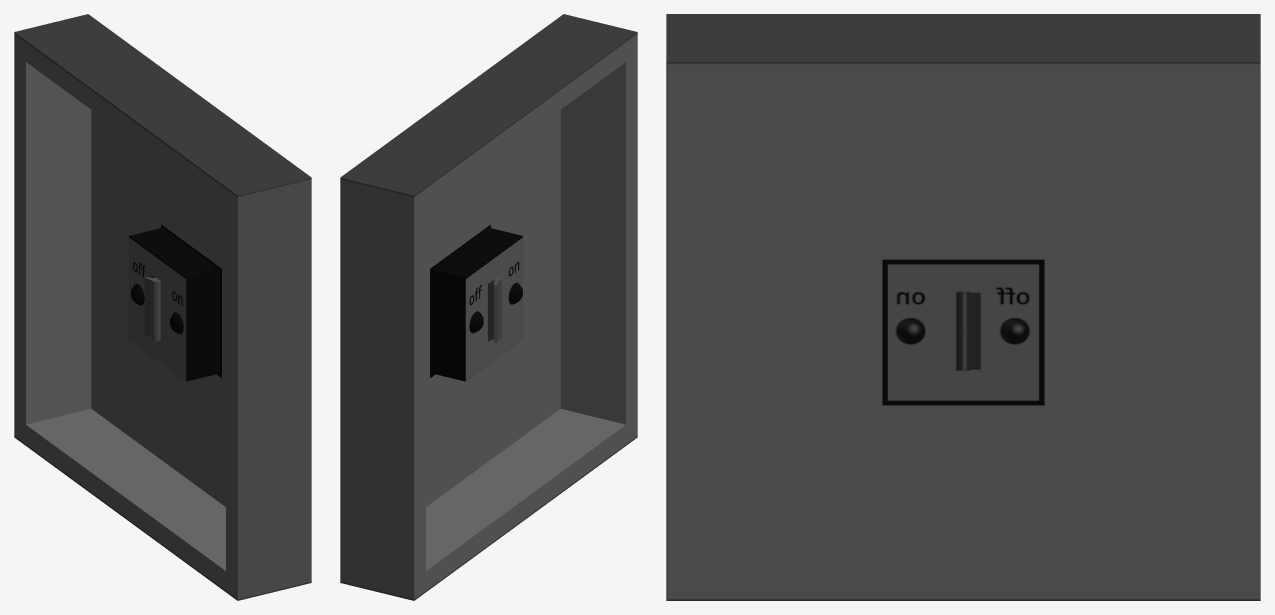
Rendered from breaker.glb.
3 views of the same model, side by side, from view 1: azimuth 30°, elevation 25°; view 2: azimuth 150°, elevation 25°; view 3: azimuth 270°, elevation 25° (orthographic). The views are drawn at different scales.
Visible parts, largest first — view 1: box, switch; view 2: box, switch; view 3: box.
Part boxes in pixels (<box>): box: <box>14,14,311,600</box>; switch: <box>144,277,160,341</box>; box: <box>340,14,637,600</box>; switch: <box>492,276,501,342</box>; box: <box>666,14,1260,600</box>.
Size of the model in its own units: 0.1287 by 0.6728 by 0.6728.
Materials: 4 (1 with a texture image).
